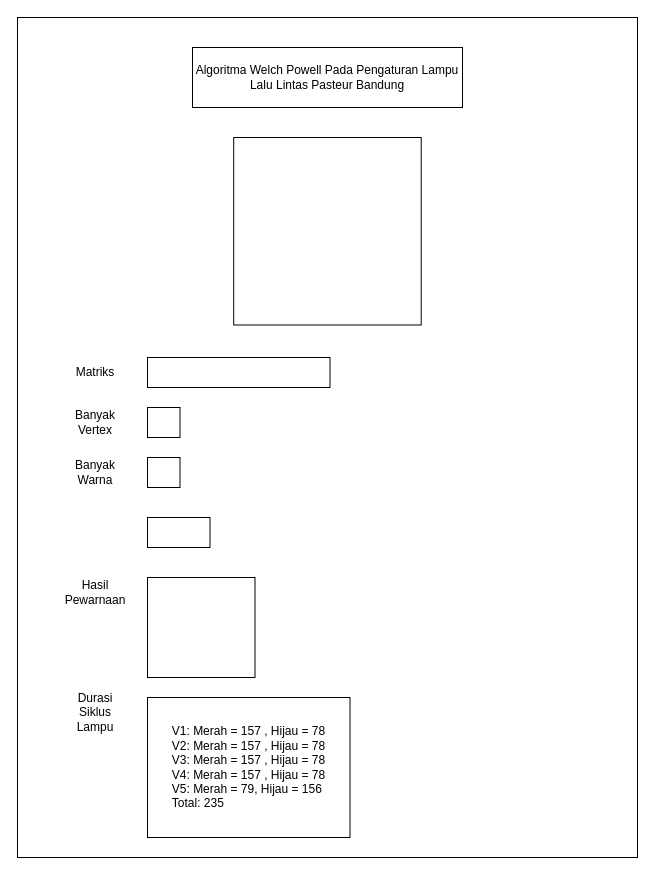
Some shapes in this 655 by 875 pixel diagram are drawn without their labels. Here are the shapes that lost their labels. From the top down, the centre of each, then its label:
(327,230): Map
(178,532): Run
